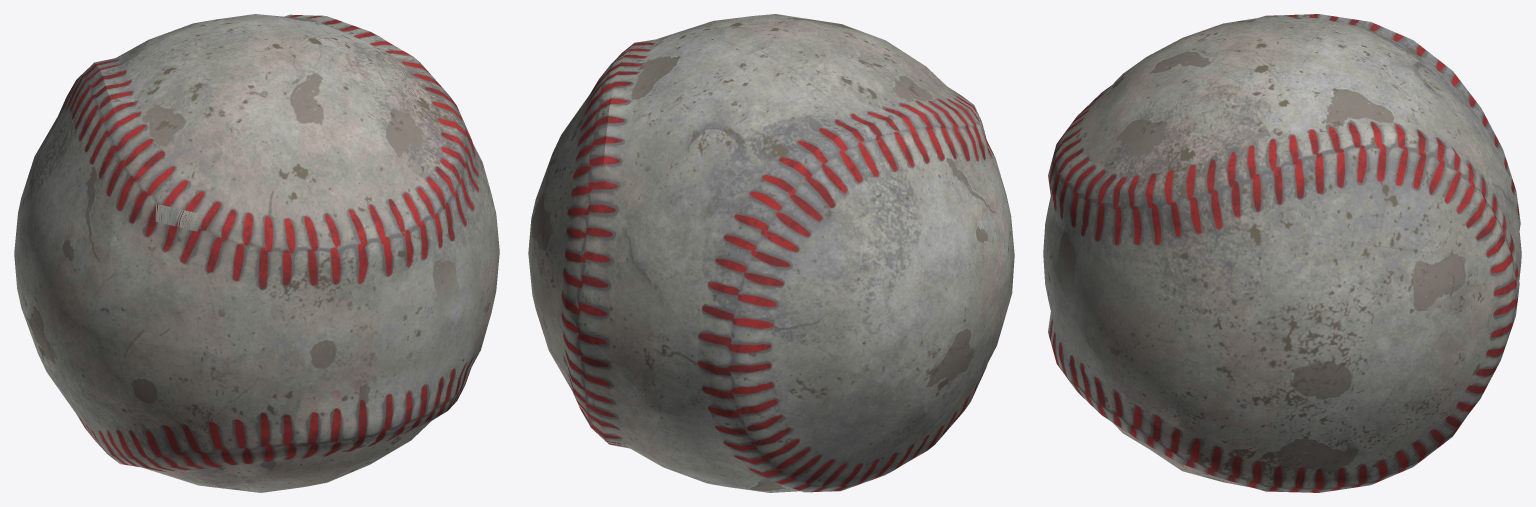
Rendered from 4break.fbx.
3 views of the same model, side by side, from view 1: azimuth 30°, elevation 25°; view 2: azimuth 150°, elevation 25°; view 3: azimuth 270°, elevation 25° (orthographic).
Parts seen in each view (by area): view 1: 4.break.016, 4.break.013, 4.break.003, 4.break, 4.break.002, 4.break.012, 4.break.010, 4.break.014, 4.break.005, 4.break.015, 4.break.008, 4.break.007; view 2: 4.break.007, 4.break.002, 4.break.011, 4.break.009, 4.break.003, 4.break.006, 4.break.015, 4.break.013, 4.break.012, 4.break.010, 4.break.016, 4.break.004; view 3: 4.break.015, 4.break.001, 4.break.006, 4.break.004, 4.break.012, 4.break.009, 4.break.005, 4.break.014, 4.break.007, 4.break, 4.break.003, 4.break.016 (+1 smaller).
Part boxes in pixels (x1,y1,x2,y2): 4.break.016: [150, 122, 412, 389]; 4.break.013: [35, 335, 301, 487]; 4.break.003: [70, 21, 276, 179]; 4.break: [283, 306, 477, 468]; 4.break.002: [14, 110, 128, 346]; 4.break.012: [236, 20, 455, 195]; 4.break.010: [93, 175, 198, 345]; 4.break.014: [398, 141, 494, 285]; 4.break.005: [394, 208, 499, 356]; 4.break.015: [241, 14, 471, 142]; 4.break.008: [209, 447, 399, 492]; 4.break.007: [32, 14, 251, 163]; 4.break.007: [599, 66, 860, 374]; 4.break.002: [827, 127, 1007, 394]; 4.break.011: [649, 356, 924, 492]; 4.break.009: [537, 121, 720, 410]; 4.break.003: [732, 31, 965, 181]; 4.break.006: [528, 197, 660, 460]; 4.break.015: [574, 20, 724, 131]; 4.break.013: [917, 257, 1014, 456]; 4.break.012: [721, 14, 868, 66]; 4.break.010: [964, 115, 1014, 282]; 4.break.016: [864, 32, 1005, 191]; 4.break.004: [535, 113, 576, 202]; 4.break.015: [1146, 56, 1420, 239]; 4.break.001: [1171, 316, 1353, 492]; 4.break.006: [1339, 282, 1517, 489]; 4.break.004: [1193, 195, 1397, 342]; 4.break.012: [1086, 34, 1347, 186]; 4.break.009: [1393, 148, 1521, 301]; 4.break.005: [1047, 221, 1197, 446]; 4.break.014: [1051, 154, 1206, 307]; 4.break.007: [1345, 28, 1520, 229]; 4.break: [1043, 233, 1175, 456]; 4.break.003: [1167, 14, 1384, 51]; 4.break.016: [1044, 41, 1176, 236].
Size of the model in its own units: 101 by 99.92 by 101.
1 material, 1 textured.
